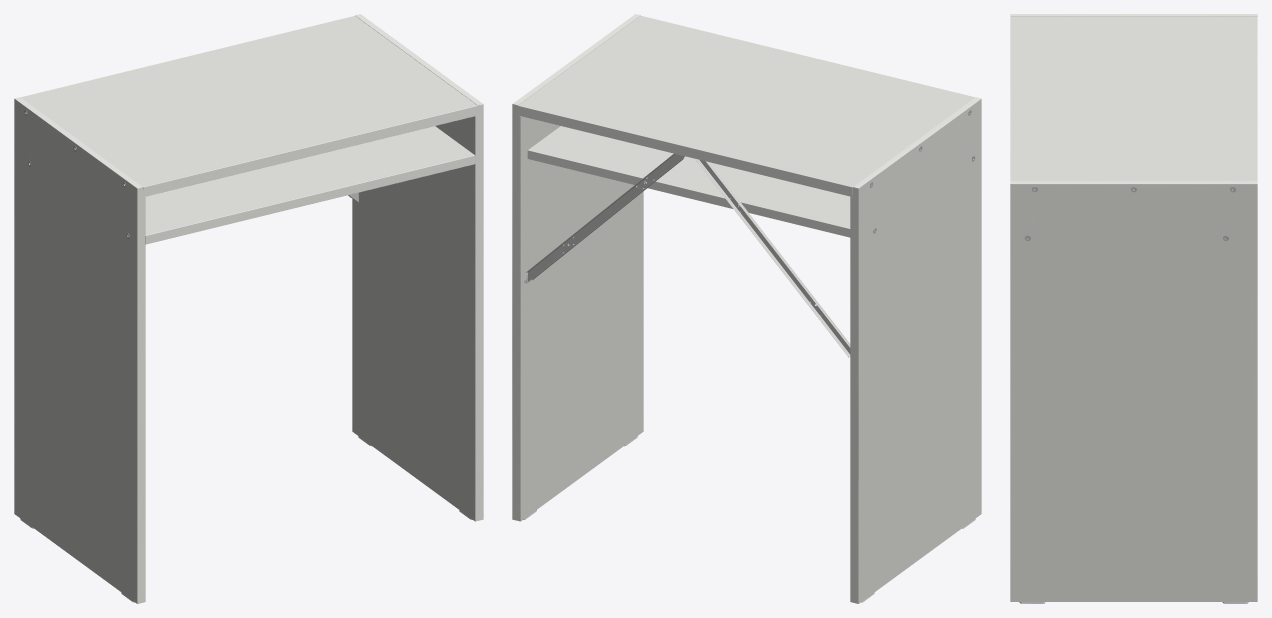
The model's file is TORALD_90493955.glb.
The picture shows the model from 3 angles, left to right: view 1: azimuth 30°, elevation 25°; view 2: azimuth 150°, elevation 25°; view 3: azimuth 270°, elevation 25°; orthographic projection.
Parts seen in each view (by area): view 1: 90493955-TORALD001; view 2: 90493955-TORALD001; view 3: 90493955-TORALD001.
Part boxes in pixels (x1,y1,x2,y2): 90493955-TORALD001: (14,14,483,603); 90493955-TORALD001: (512,14,981,603); 90493955-TORALD001: (1010,14,1257,603).
Bounding box in the file's own units: 0.6527 × 0.75 × 0.4.
1 material, 1 textured.
